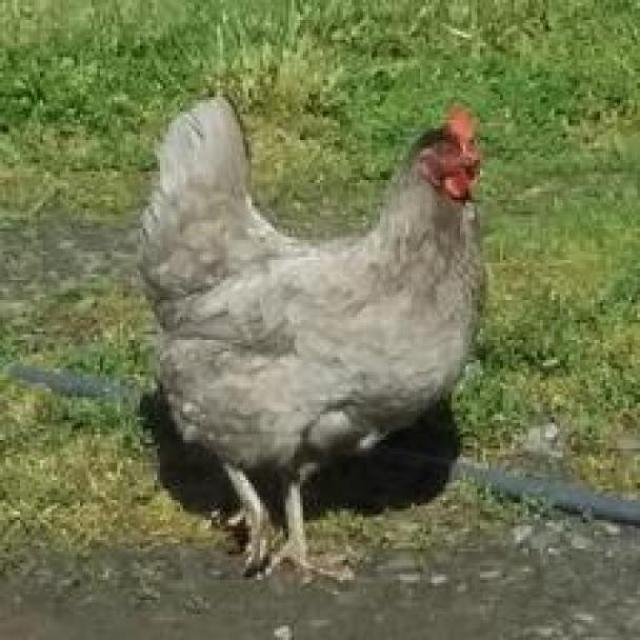Chicken: (89, 65, 603, 597)
